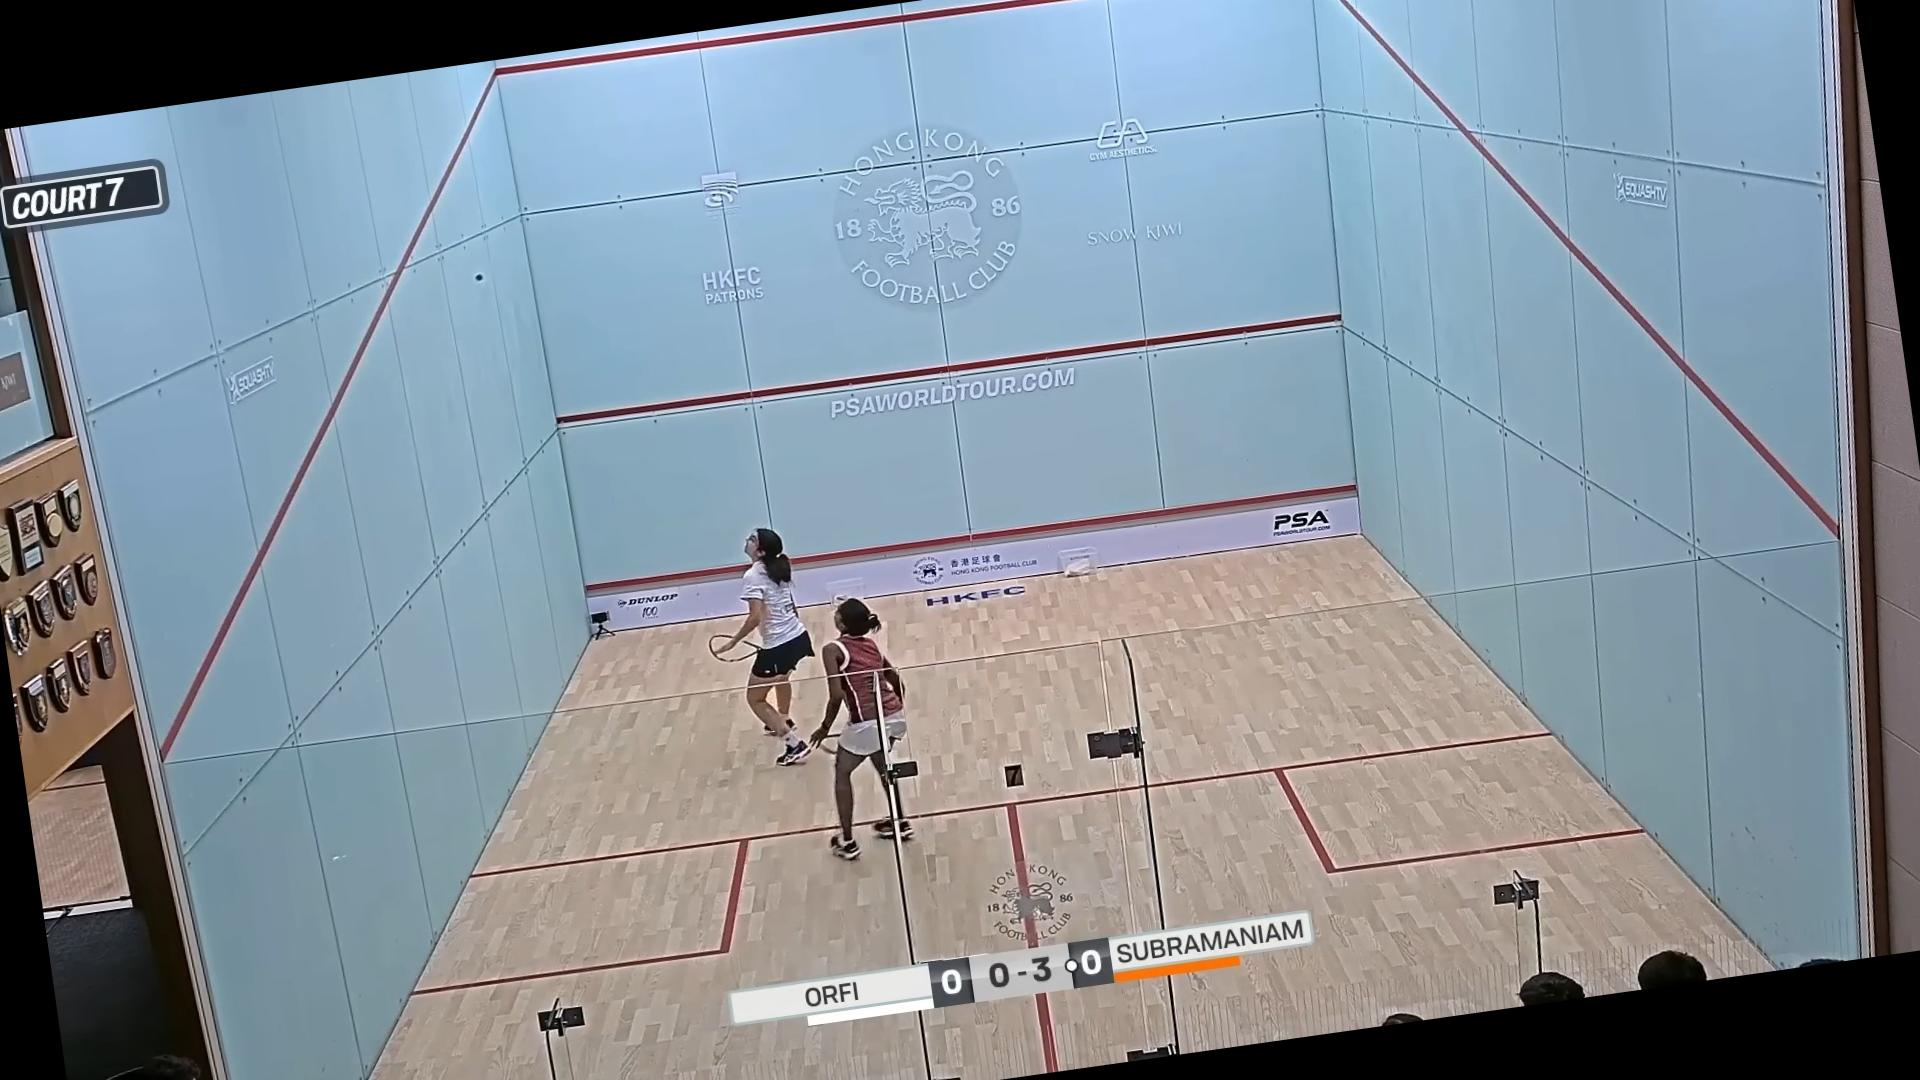Squash-Ball: (463, 257, 495, 294)
